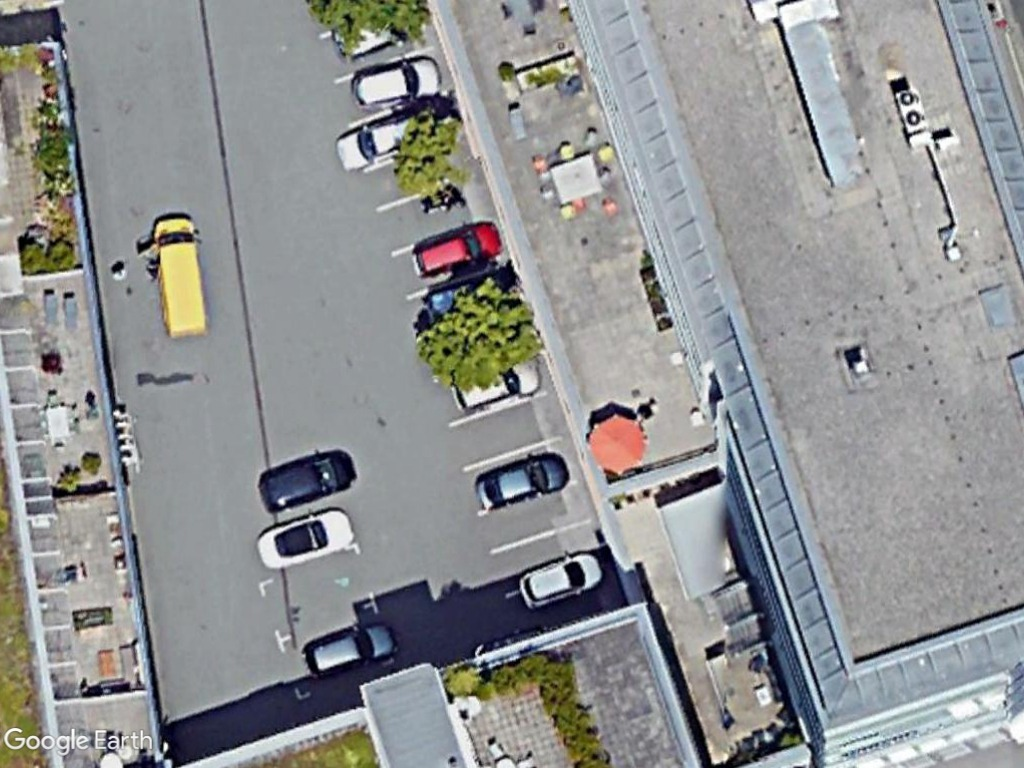car: (255, 446, 362, 515), (255, 503, 357, 575), (297, 616, 403, 683), (471, 445, 575, 513), (514, 548, 614, 613), (410, 219, 509, 281), (349, 52, 448, 113)
van: (148, 208, 211, 341)
